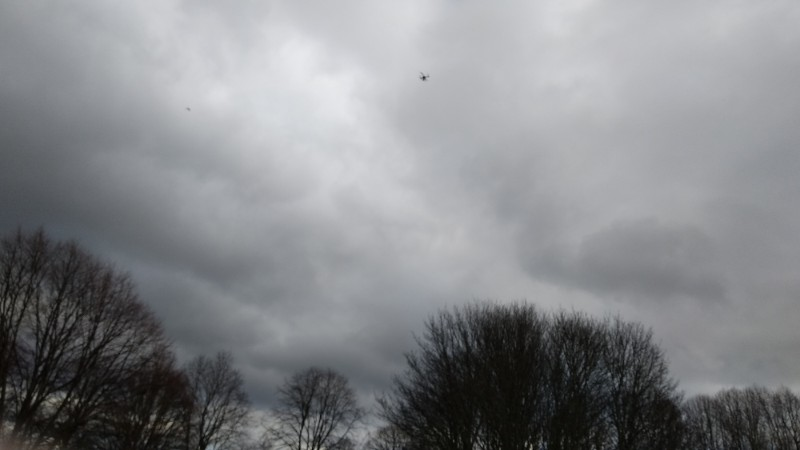drone: (417, 72, 433, 81)
